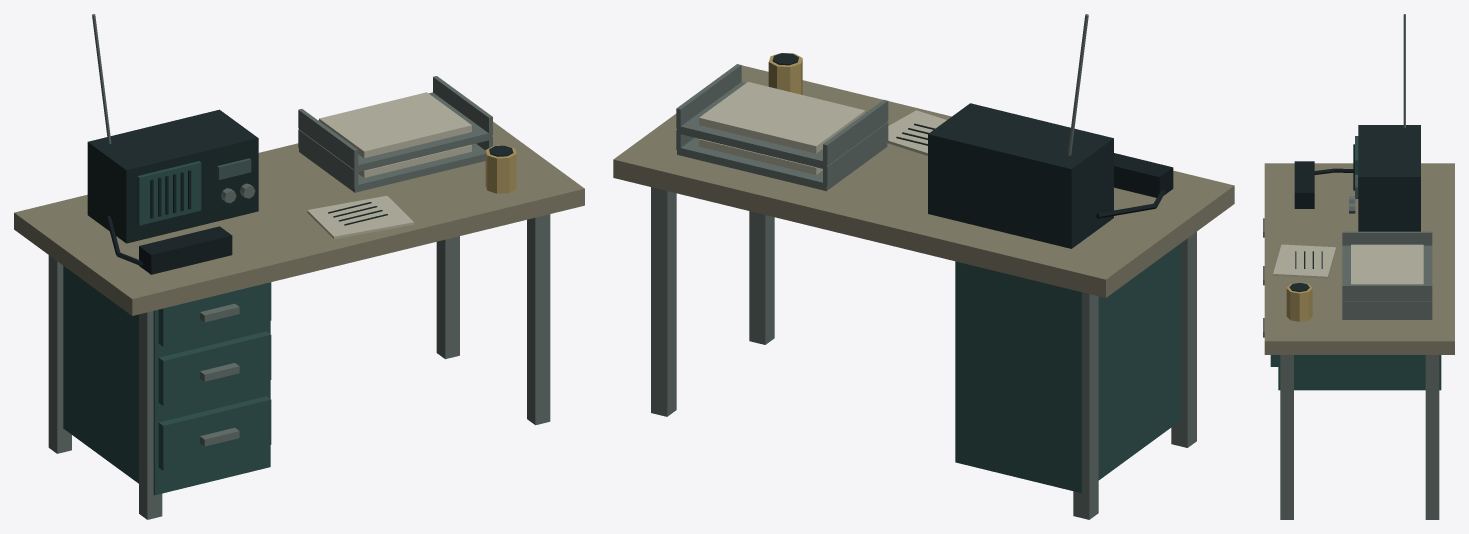
File: v115-yard-gatehouse-desk.glb
3 views of the same model, side by side, from view 1: azimuth 30°, elevation 25°; view 2: azimuth 150°, elevation 25°; view 3: azimuth 270°, elevation 25° (orthographic). The views are drawn at different scales.
Visible parts, largest first — view 1: gatehouse-desk; view 2: gatehouse-desk; view 3: gatehouse-desk.
Part boxes in pixels (bbox=[...]): gatehouse-desk: bbox=[14, 14, 584, 519]; gatehouse-desk: bbox=[613, 14, 1234, 519]; gatehouse-desk: bbox=[1263, 14, 1454, 519].
Bounding box in the file's own units: 1.68 × 1.57 × 0.766.
